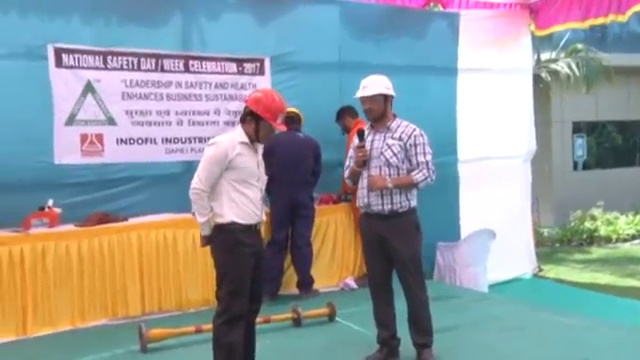helmet: (244, 87, 289, 133), (350, 73, 400, 99), (285, 106, 306, 124)
helmet_off: (334, 104, 364, 135)
helmet_on: (237, 86, 288, 151), (349, 72, 401, 131), (282, 105, 306, 136)
person: (186, 86, 287, 359), (344, 77, 438, 359), (262, 105, 323, 302), (335, 103, 369, 228)
